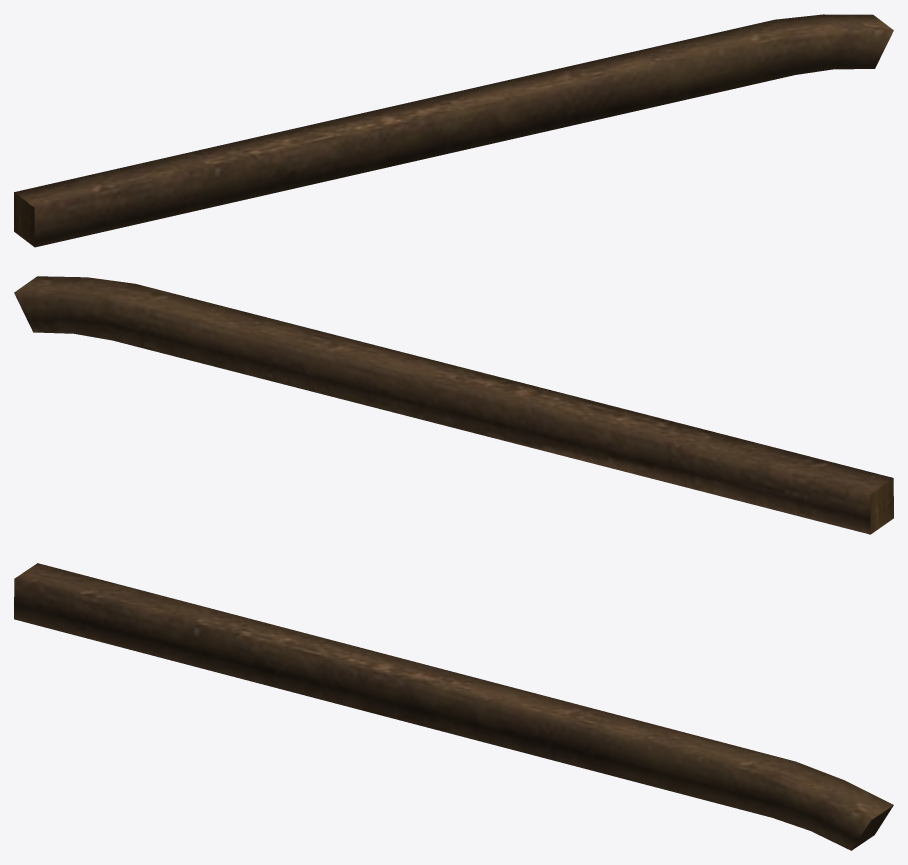
Rendered from WoodPlank_01.FBX.
3 renders of one model, top to bottom at view 1: azimuth 30°, elevation 25°; view 2: azimuth 150°, elevation 25°; view 3: azimuth 330°, elevation 25°, orthographic. The views are drawn at different scales.
Parts seen in each view (by area): view 1: WoodPlank_01; view 2: WoodPlank_01; view 3: WoodPlank_01.
Part boxes in pixels (bbox=[...]): WoodPlank_01: bbox=[14, 14, 893, 247]; WoodPlank_01: bbox=[14, 276, 893, 534]; WoodPlank_01: bbox=[14, 563, 893, 850].
Bounding box in the file's own units: 146 × 8.86 × 10.28.
